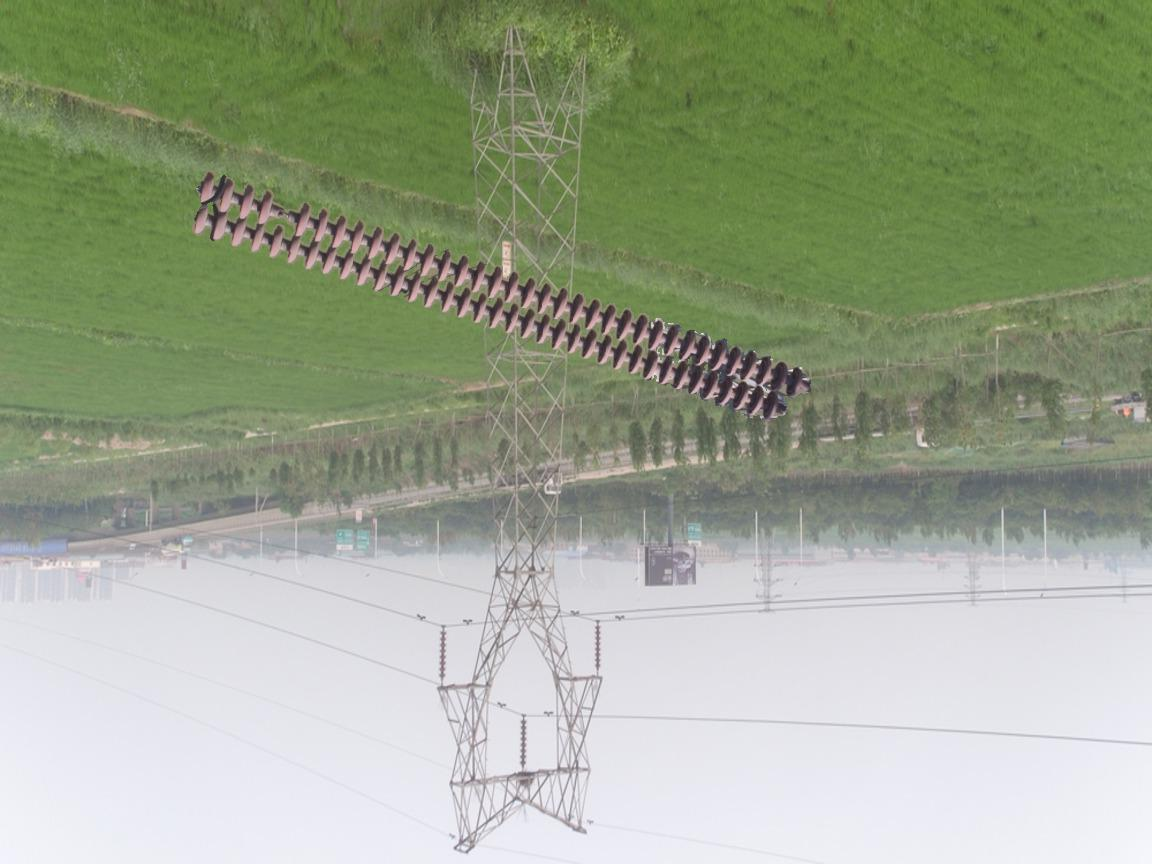insulator: (184, 169, 811, 421), (516, 713, 531, 768), (435, 626, 450, 679), (590, 622, 605, 671)
insulator_stringdrop: (254, 186, 314, 241)
